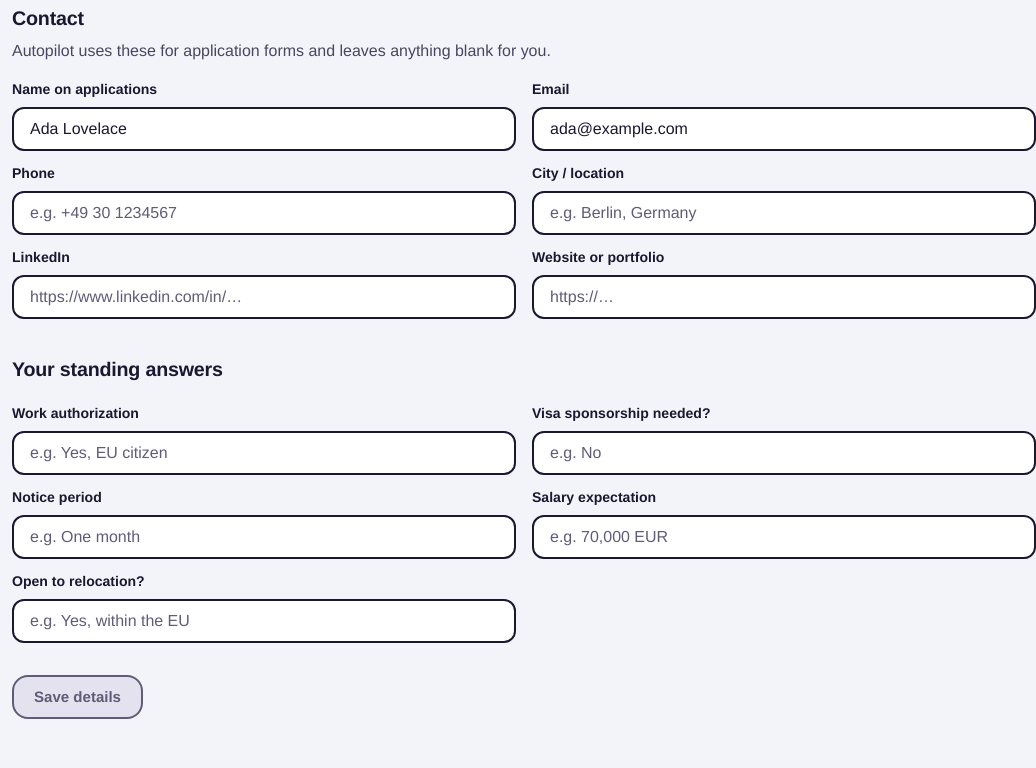
Test: Application details card › checks the form itself (no browser bubble) and adds the https:// people leave off a link
In the field labelled "LinkedIn": (264, 296) [30,276,498,316], type "linkedin.com/in/nora"
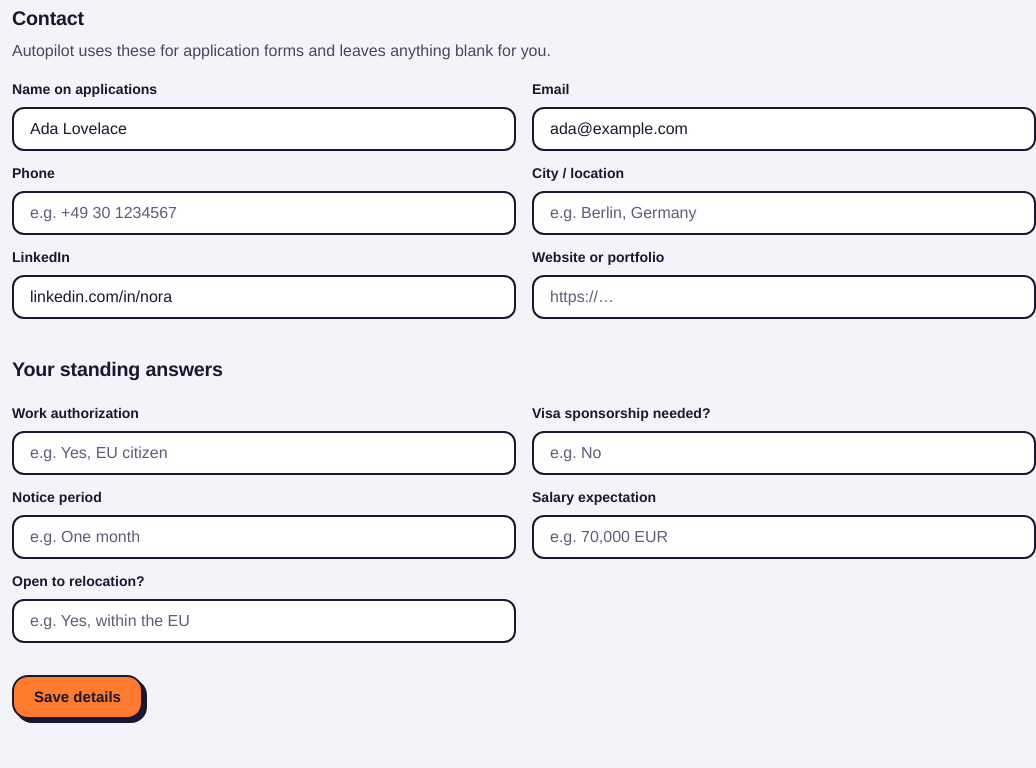
In the field labelled "Website or portfolio": (784, 296) [550,276,1018,316], type " nora.dev "
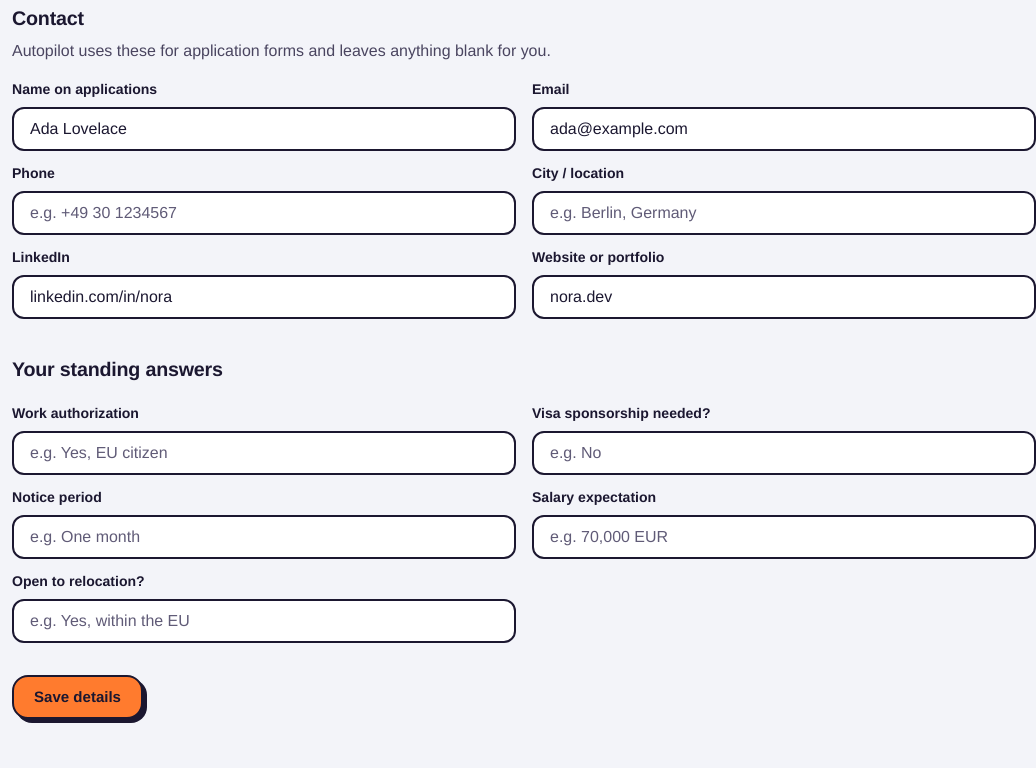
Click the button "Save details": (78, 696) [12,674,143,718]
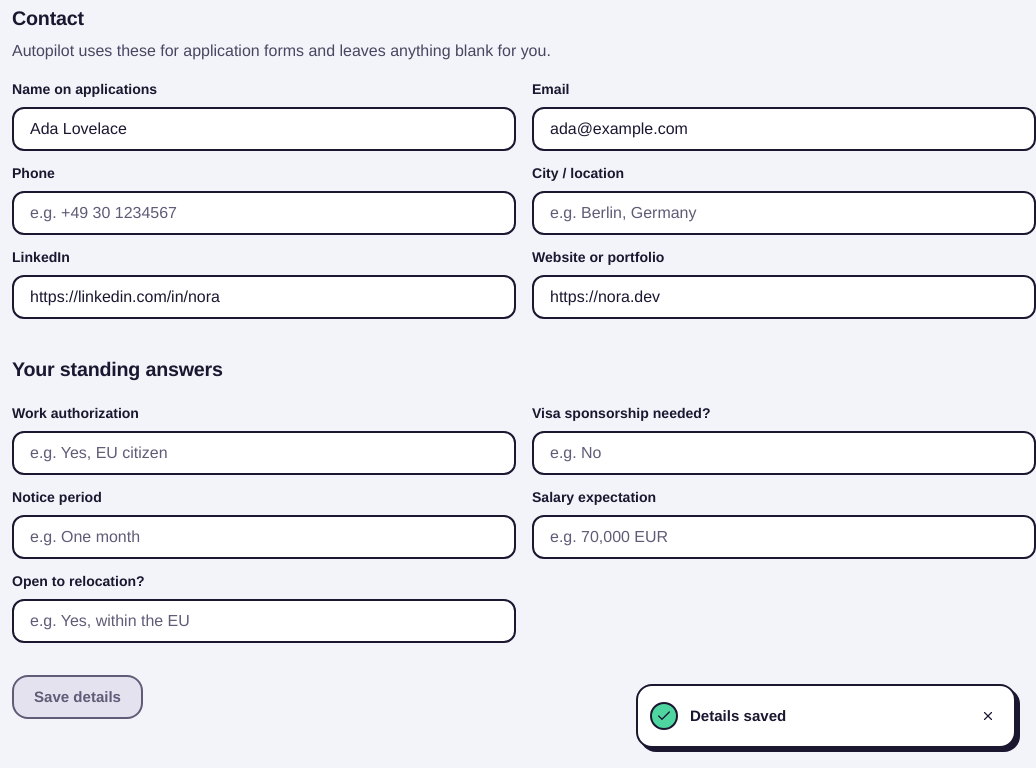
Result: the field labelled "LinkedIn" holds "https://linkedin.com/in/nora" at [30,276,498,316]
